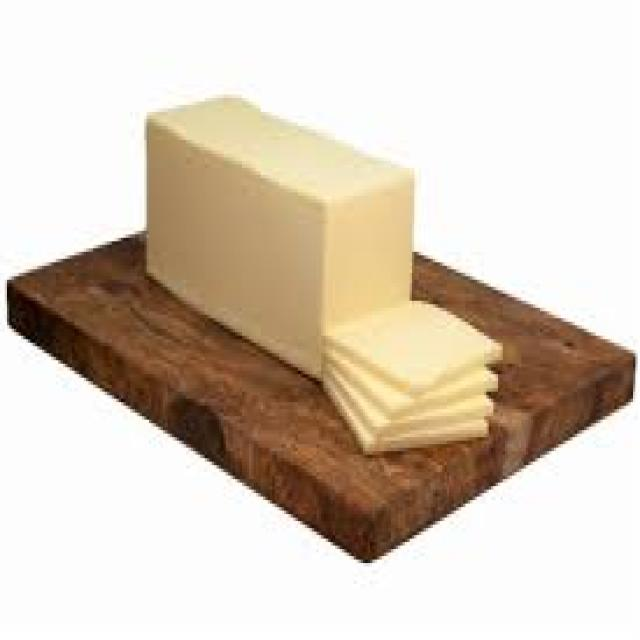cheese: (322, 301, 502, 454)
